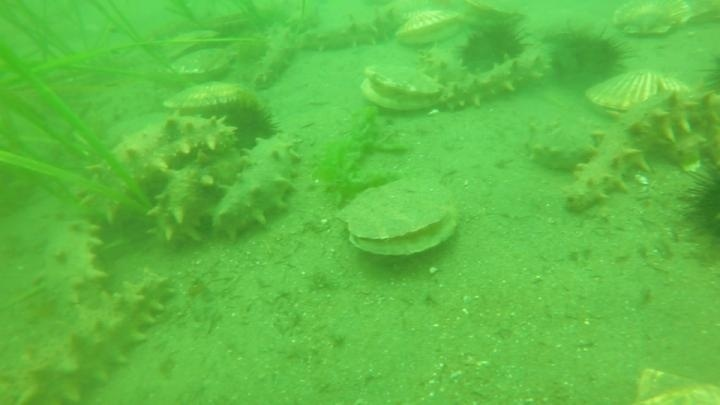echinus: (545, 23, 629, 91), (194, 92, 282, 156), (456, 18, 530, 77), (678, 157, 719, 257)
holothurian: (24, 269, 176, 405), (559, 86, 714, 217), (83, 112, 236, 219), (144, 135, 242, 248), (209, 133, 302, 244), (431, 48, 554, 116), (30, 211, 108, 318), (294, 5, 406, 57), (521, 113, 602, 175), (249, 22, 301, 92), (416, 46, 476, 90)
scallop: (338, 175, 463, 265), (581, 65, 706, 118), (357, 60, 446, 116), (157, 29, 240, 87), (609, 1, 704, 42), (391, 4, 470, 51), (632, 362, 719, 404), (159, 79, 251, 112), (463, 1, 529, 31)
